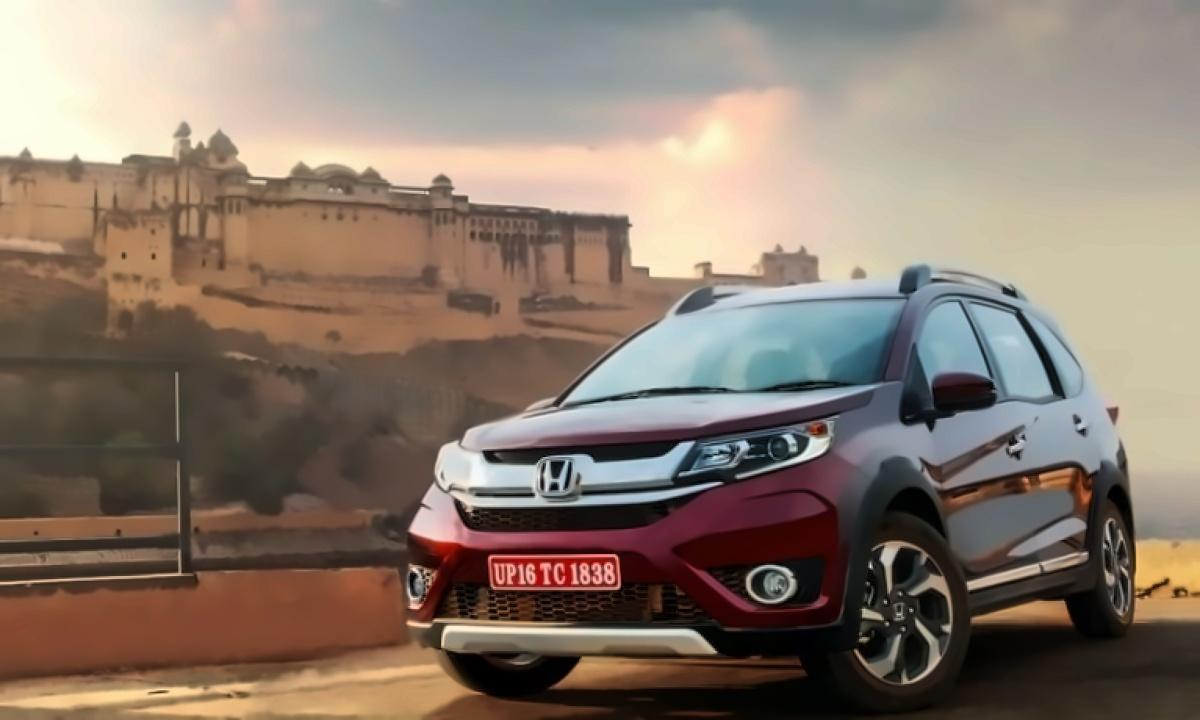Car hood: (459, 373, 882, 453)
Fender - -F-L-: (828, 367, 972, 590)
Front bumper: (402, 440, 870, 658)
Headlight - -L-: (672, 413, 839, 489)
Headlight - -R-: (430, 437, 480, 495)
Passenger-s door - -F-L-: (892, 272, 1041, 614)
Passenger-s door - -R-L-: (953, 268, 1095, 607)
Side bumper - -L-: (956, 527, 1101, 630)
Side mirror - -L-: (913, 369, 1002, 423)
